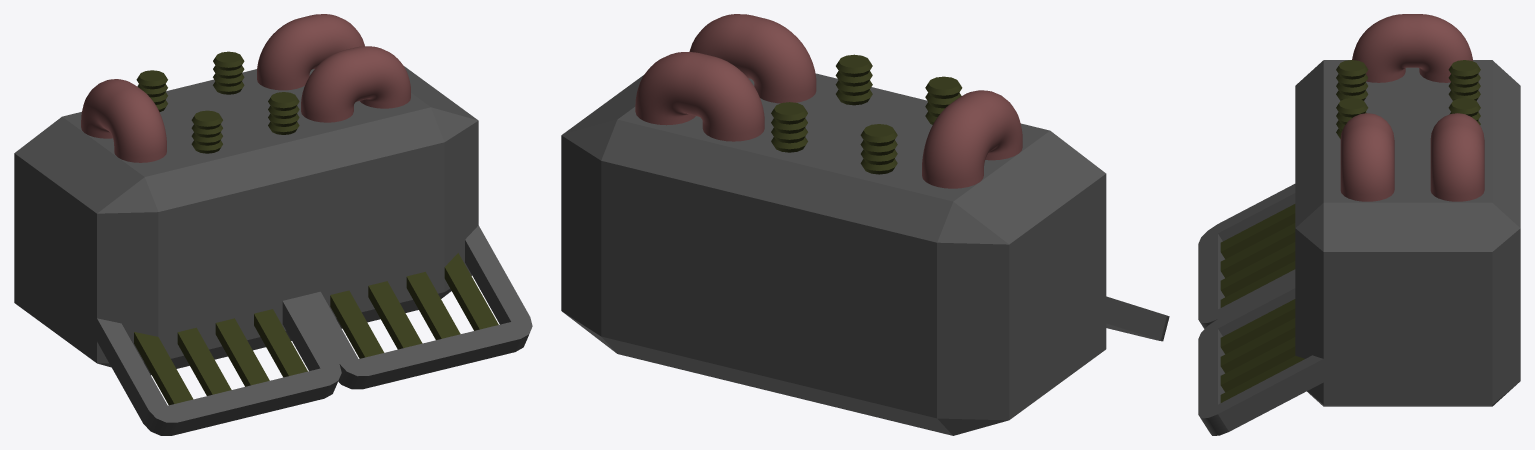
The model's file is System_Generic_02.fbx.
3 renders of one model, left to right at view 1: azimuth 30°, elevation 25°; view 2: azimuth 150°, elevation 25°; view 3: azimuth 270°, elevation 25°, orthographic. The views are drawn at different scales.
Parts seen in each view (by area): view 1: block_bevel, grate_square (×2), pipe_smallBend (×6), tube_rubber (×4); view 2: block_bevel, pipe_smallBend (×6), tube_rubber (×4), grate_square; view 3: block_bevel, grate_square (×2), pipe_smallBend (×6), tube_rubber (×4).
Part boxes in pixels (x1,y1,x2,y2): block_bevel: (14, 66, 478, 374); grate_square (×2): (67, 225, 532, 435); pipe_smallBend (×6): (81, 14, 410, 162); tube_rubber (×4): (136, 51, 299, 153); block_bevel: (561, 73, 1106, 435); pipe_smallBend (×6): (635, 14, 1022, 188); tube_rubber (×4): (771, 54, 962, 174); grate_square: (1071, 296, 1169, 341); block_bevel: (1295, 60, 1520, 406); grate_square (×2): (1198, 184, 1382, 435); pipe_smallBend (×6): (1340, 14, 1484, 201); tube_rubber (×4): (1336, 60, 1480, 138).
Size of the model in its own units: 20 by 13.27 by 14.31.
